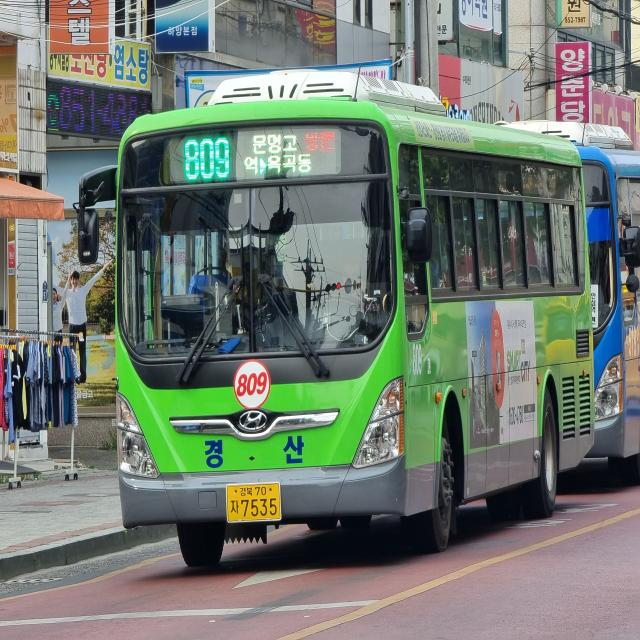bus-number: (182, 135, 233, 184)
